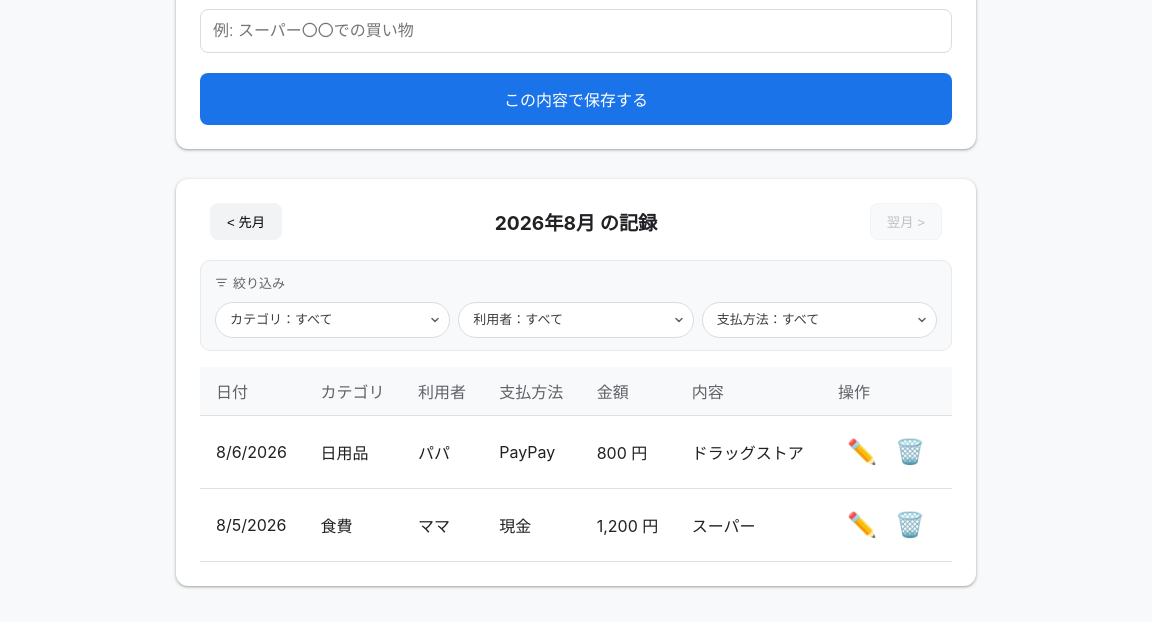
Scenario: 別々の項目を選ぶと両方を満たすものだけが残る
(page scrolled)
Expected: the text "スーパー" is shown, [676,488,822,561]
Click the button "カテゴリ：すべて": (333, 320) [215,302,450,338]
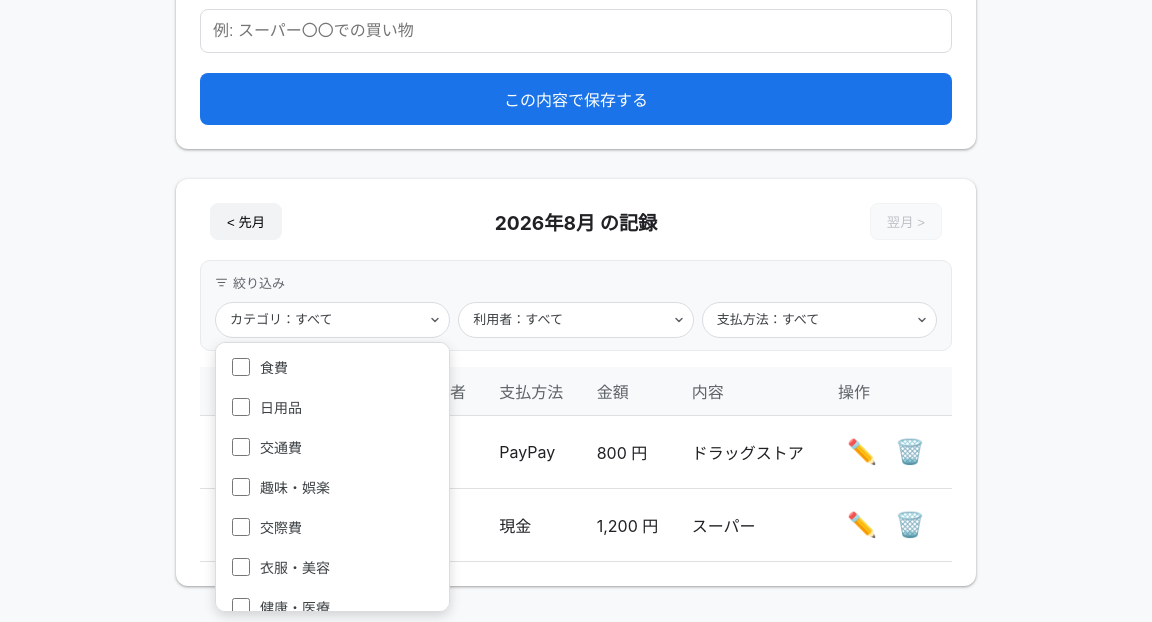
Click the checkbox labelled "食費": (241, 367) [232,358,250,376]
(page scrolled)
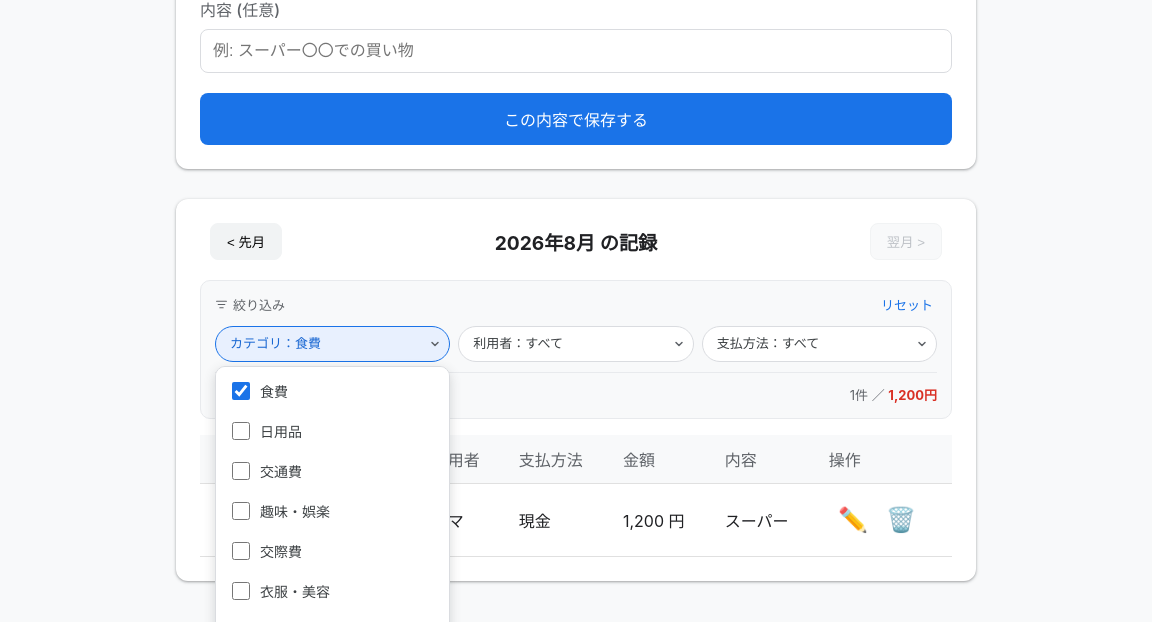
Click the button "利用者：すべて": (576, 344) [458,326,694,362]
(page scrolled)
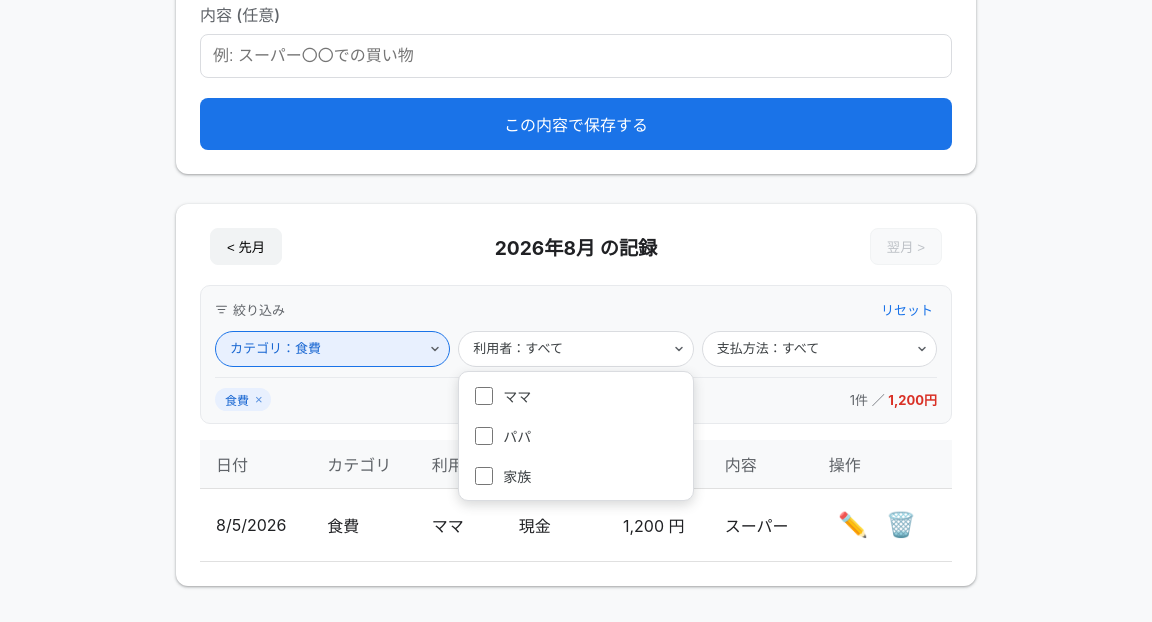
Click the checkbox labelled "パパ": (484, 436) [475,427,493,445]
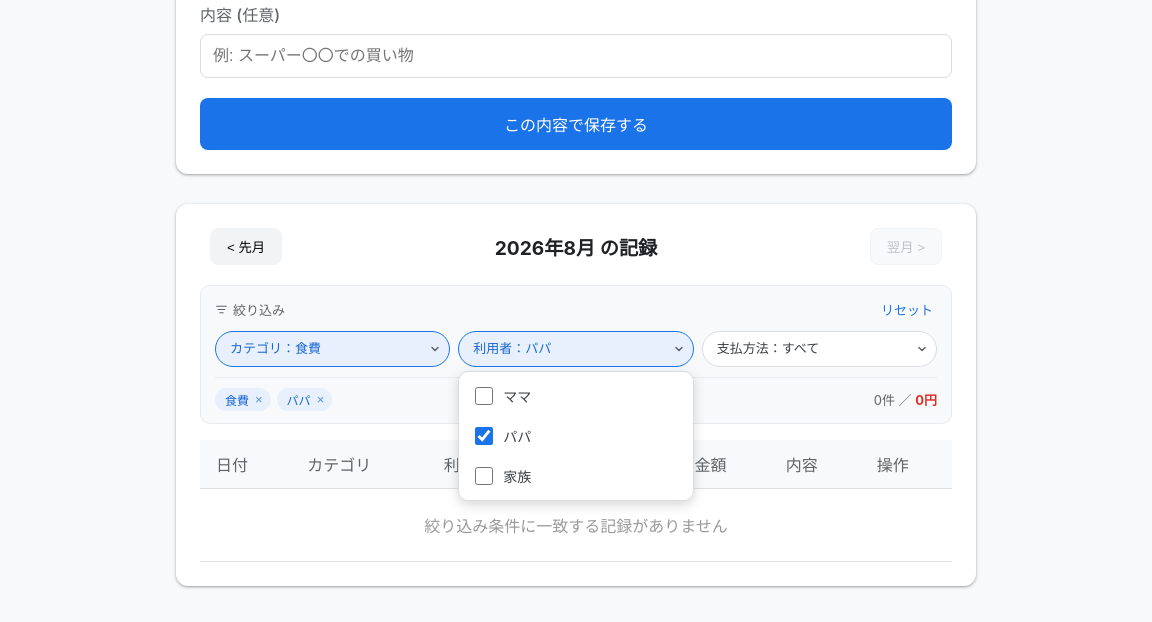
Expected: the text "絞り込み条件に一致する記録がありません" is shown, [200,488,952,561]
